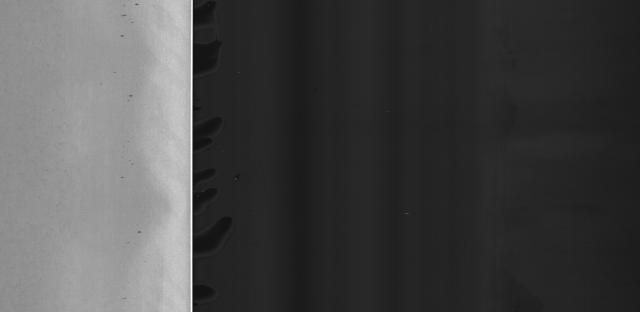inclusion: (118, 140, 134, 184), (125, 228, 144, 246), (120, 2, 134, 21), (124, 90, 138, 106), (117, 29, 130, 46)
silk_spot: (0, 14, 74, 289)
